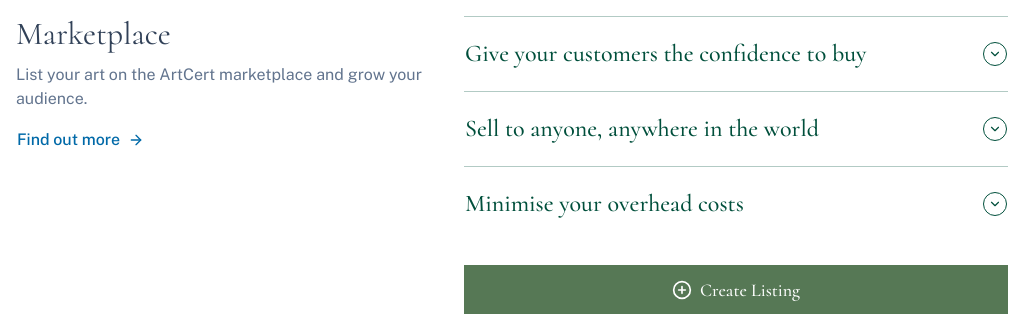
Scenario: ManageMarketplaceCard › Not Listed View › shows listing form when Create Listing is clicked for verified artwork
The image size is (1025, 331).
Expected: the text "Create Listing" is shown, top-left (700, 276), bottom-right (800, 304)
Click the button "Create Listing".
click(736, 290)  # box top-left (464, 265), bottom-right (1008, 314)
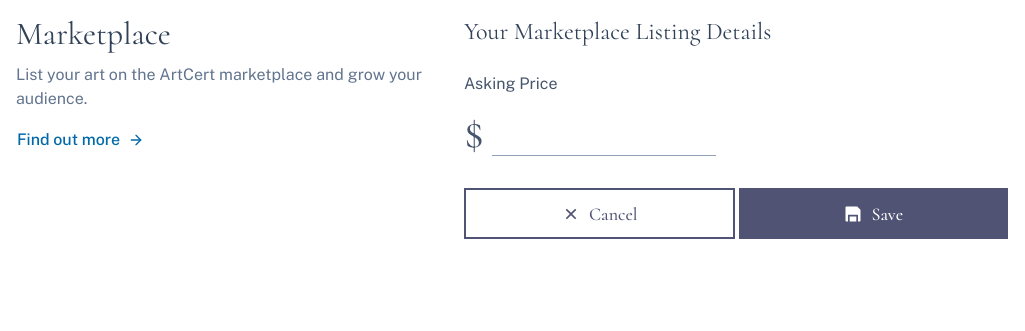
Result: the heading "Your Marketplace Listing Details" is shown at top-left (464, 17), bottom-right (771, 46)
Result: the text "Asking Price" is shown at top-left (464, 74), bottom-right (558, 93)
